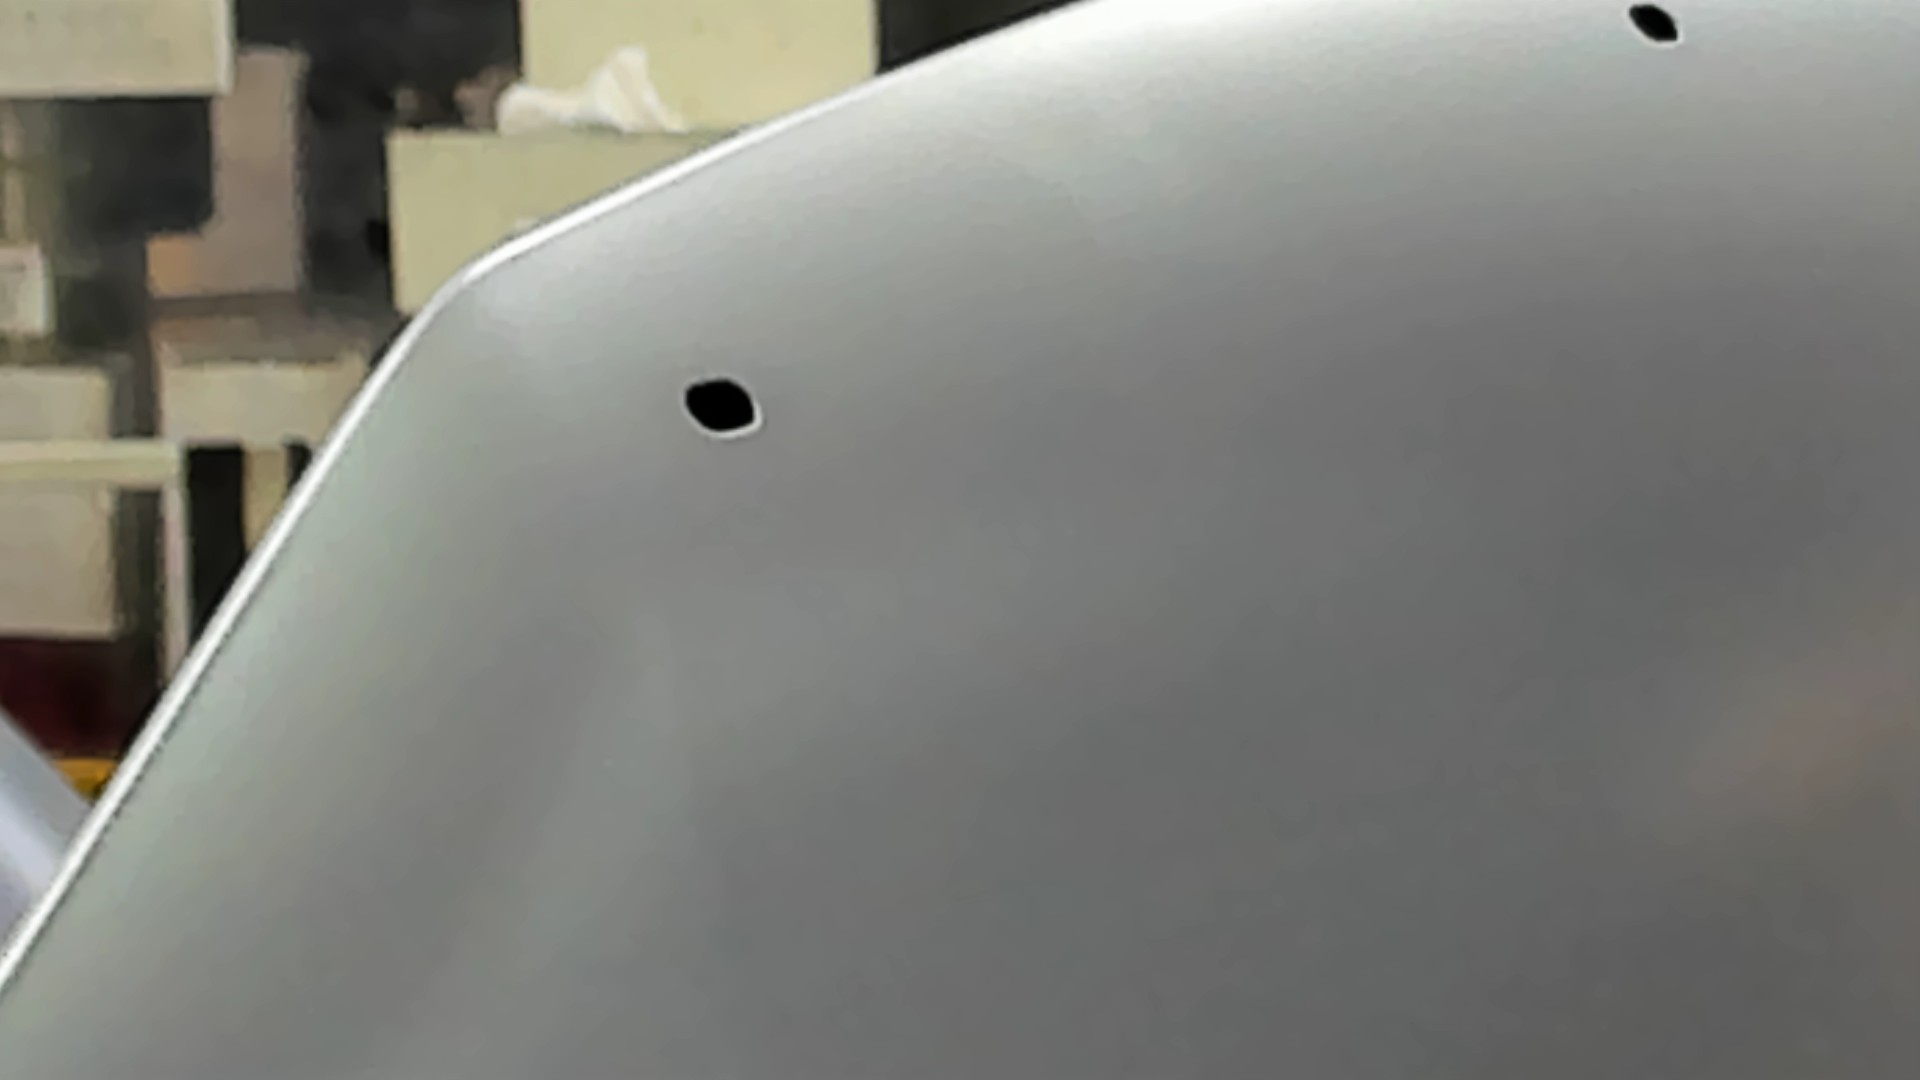amorfo: (674, 368, 769, 446), (1619, 3, 1687, 53)
